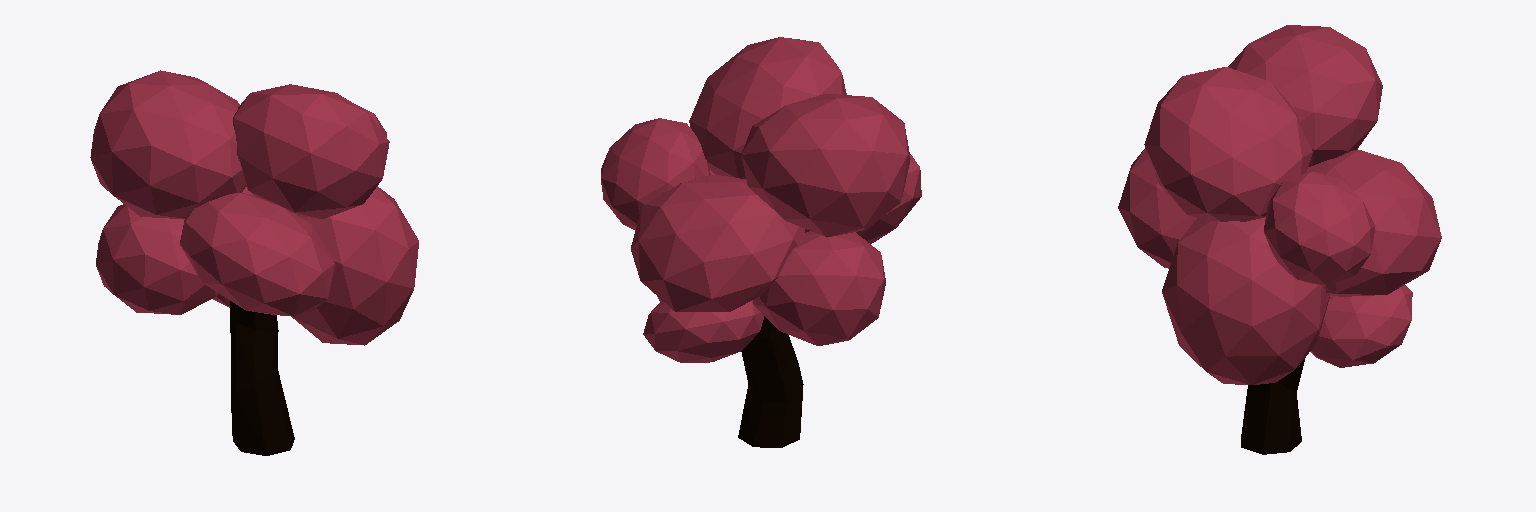
Rendered from Tree_A.obj.
3 views of the same model, side by side, from view 1: azimuth 30°, elevation 25°; view 2: azimuth 150°, elevation 25°; view 3: azimuth 270°, elevation 25° (orthographic).
Visible parts, largest first — view 1: Tree_A; view 2: Tree_A; view 3: Tree_A.
Part boxes in pixels (left/top/right/bottom): Tree_A: left=90, top=70, right=418, bottom=455; Tree_A: left=601, top=37, right=921, bottom=447; Tree_A: left=1118, top=25, right=1441, bottom=454.
Bounding box in the file's own units: 10.3 × 12.69 × 10.12.